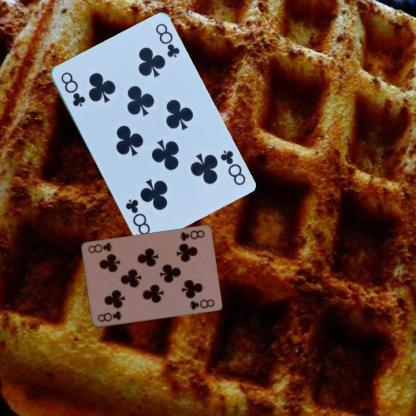8c: (216, 146, 246, 186), (58, 69, 86, 108), (176, 227, 206, 243), (94, 308, 123, 324)
